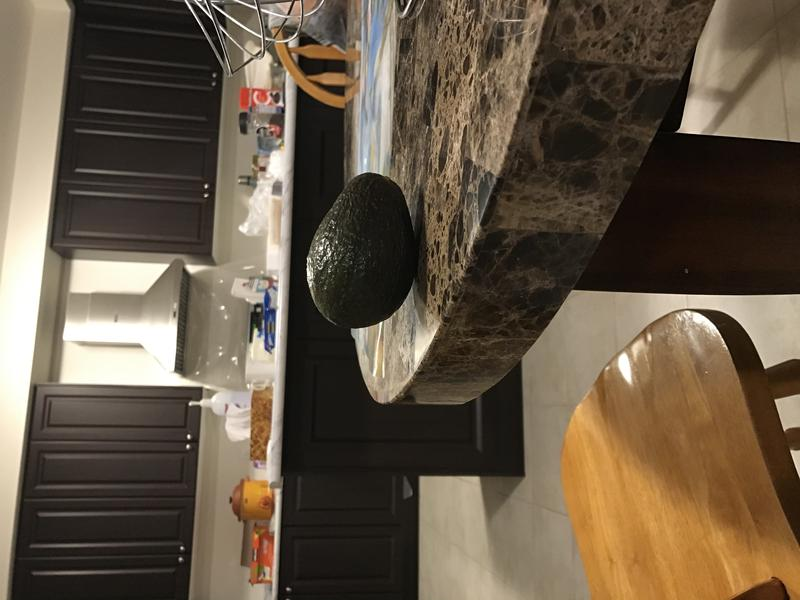avacado: (303, 166, 421, 336)
